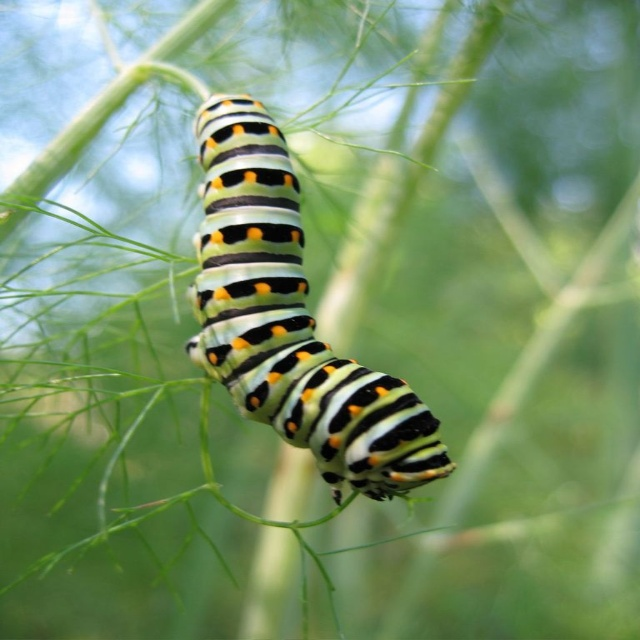Caterpillar: (184, 92, 456, 505)
